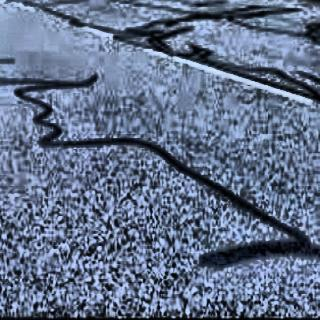crack: (2, 67, 320, 270)
